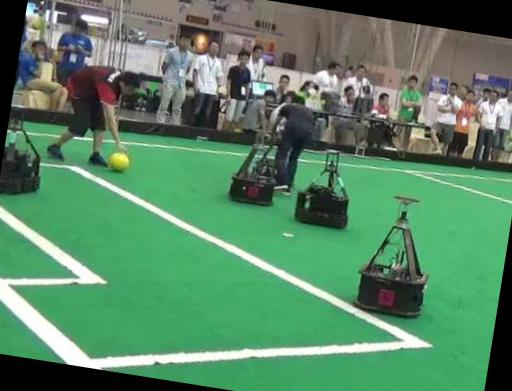ball: (108, 151, 130, 170)
person: (47, 65, 139, 165), (272, 94, 314, 192)
robot: (355, 209, 427, 315), (295, 149, 349, 227), (229, 130, 275, 204), (0, 115, 40, 192)
